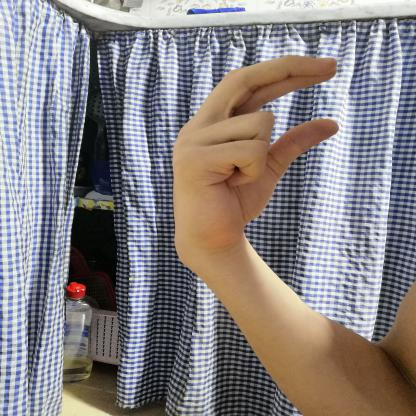DHELL: (154, 44, 358, 258)
